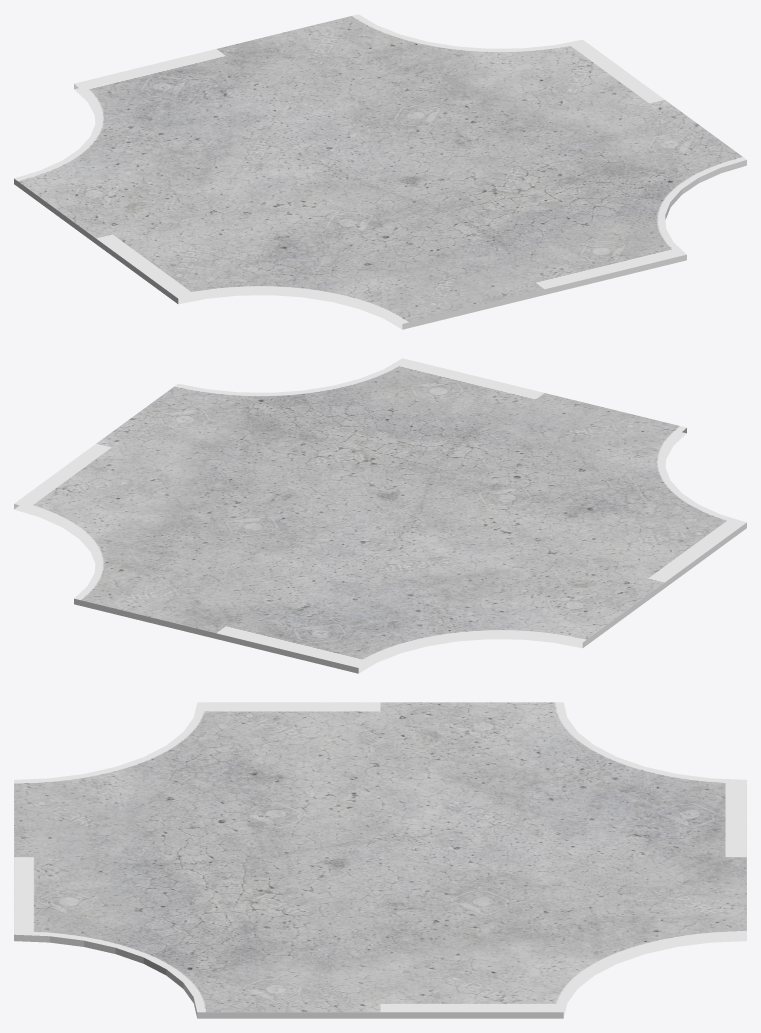
Rendered from road_intersection.dae.
3 views of the same model, one above another, from view 1: azimuth 30°, elevation 25°; view 2: azimuth 150°, elevation 25°; view 3: azimuth 270°, elevation 25° (orthographic). The views are drawn at different scales.
Visible parts, largest first — view 1: Cube; view 2: Cube; view 3: Cube.
Part boxes in pixels (left/top/right/bottom): Cube: left=14, top=14, right=746, bottom=329; Cube: left=14, top=358, right=746, bottom=673; Cube: left=14, top=702, right=746, bottom=1018.
Bounding box in the file's own units: 10.4 × 10.4 × 0.1.
1 material, 1 textured.
